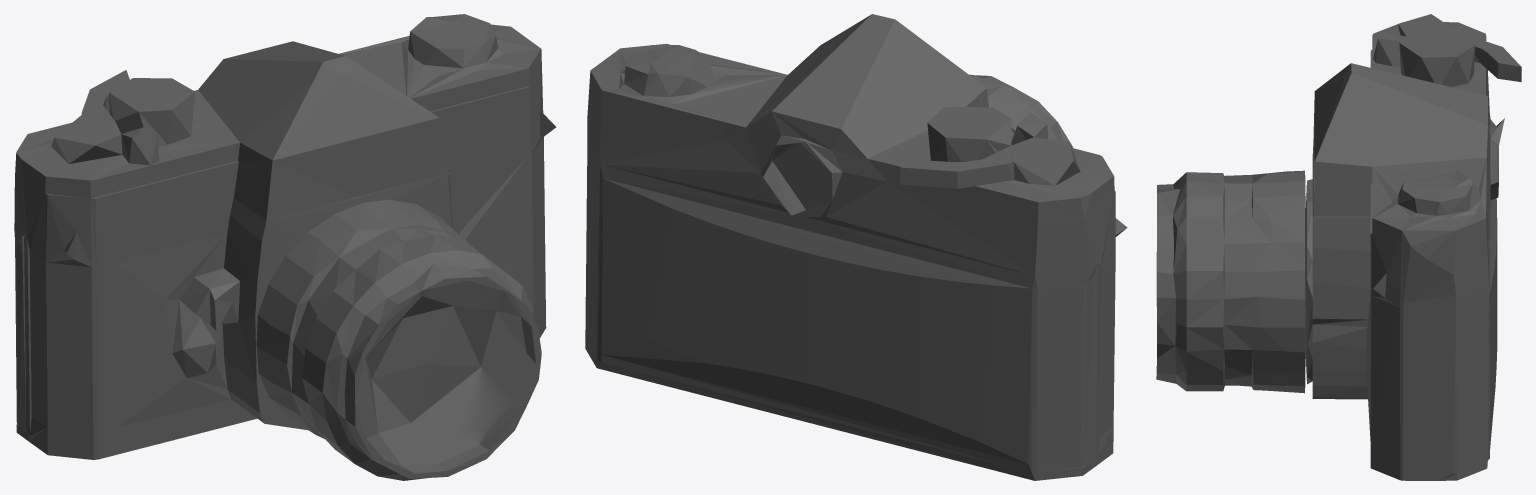
File: model_align.obj
3 renders of one model, left to right at view 1: azimuth 30°, elevation 25°; view 2: azimuth 150°, elevation 25°; view 3: azimuth 270°, elevation 25°, orthographic. The views are drawn at different scales.
Bounding box in the file's own units: 0.2052 × 0.1368 × 0.144.
